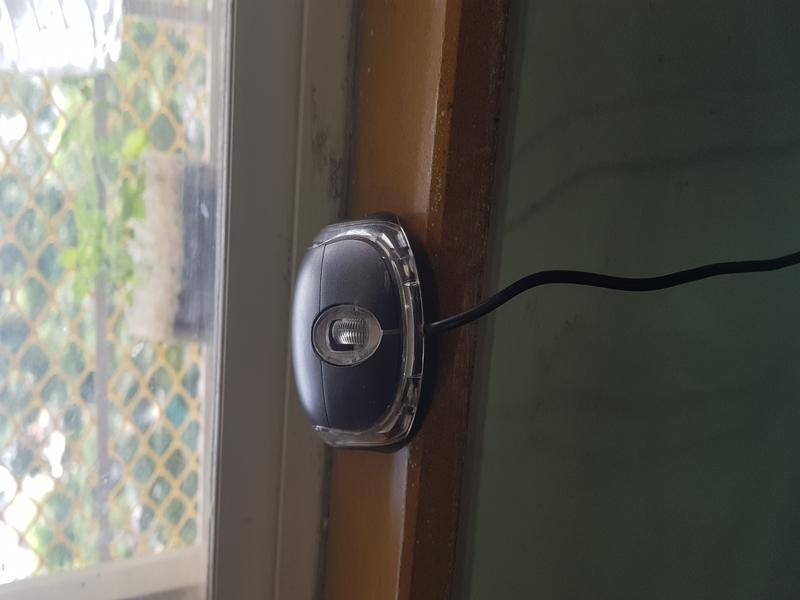mouse: (272, 206, 437, 467)
